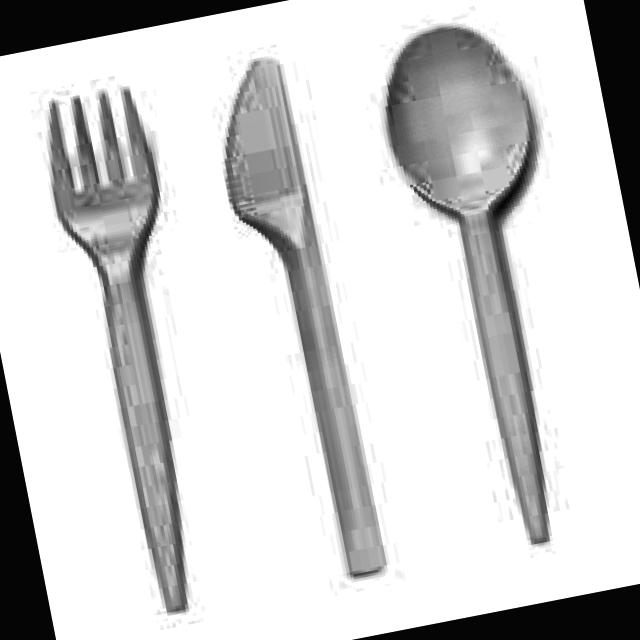plastic utensil: (385, 26, 545, 542), (225, 60, 379, 572), (50, 90, 185, 611)
